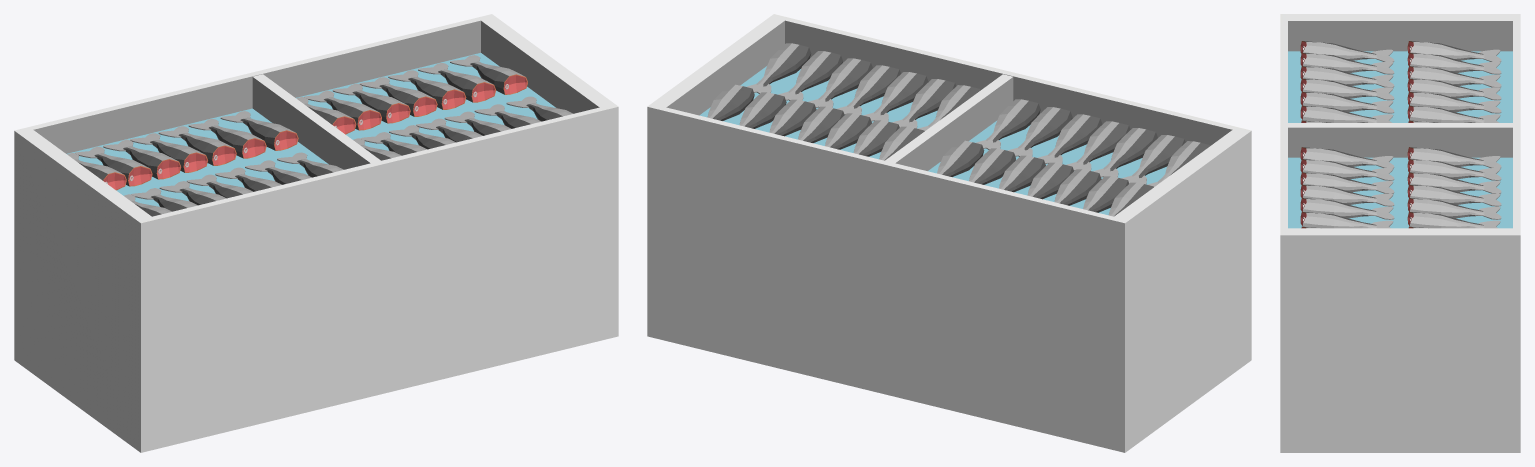
Rendered from fish_box.gltf.
3 views of the same model, side by side, from view 1: azimuth 30°, elevation 25°; view 2: azimuth 150°, elevation 25°; view 3: azimuth 270°, elevation 25° (orthographic). The views are drawn at different scales.
Visible parts, largest first — view 1: Cube.001, fish_001.006, fish_001.001; view 2: Cube.001, fish_001.006, fish_001.001; view 3: Cube.001, fish_001.001, fish_001.006.
Part boxes in pixels (x1,y1,x2,y2): Cube.001: (14, 14, 618, 452); fish_001.006: (297, 55, 573, 160); fish_001.001: (67, 111, 343, 216); Cube.001: (647, 14, 1251, 452); fish_001.006: (707, 43, 980, 160); fish_001.001: (937, 99, 1210, 216); Cube.001: (1280, 14, 1520, 452); fish_001.001: (1300, 41, 1501, 122); fish_001.006: (1300, 147, 1501, 228).
Bounding box in the file's own units: 9.22 × 4.23 × 4.23.
2 materials, 2 textured.
